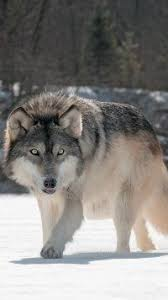Lobo: (3, 88, 157, 254)
